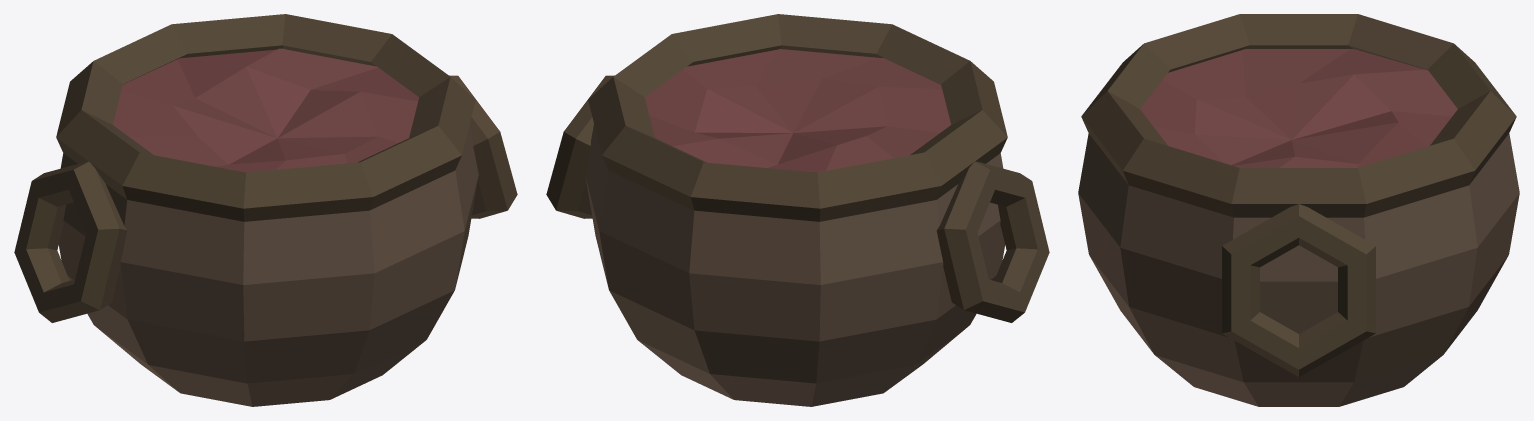
The model's file is Cauldron_2_Brown.fbx.
The picture shows the model from 3 angles, left to right: view 1: azimuth 30°, elevation 25°; view 2: azimuth 150°, elevation 25°; view 3: azimuth 270°, elevation 25°; orthographic projection.
Visible parts, largest first — view 1: Cauldron_2_Brown_Part_1, Cauldron_2_Brown_Part_2, Cauldron_2_Brown_Part_3; view 2: Cauldron_2_Brown_Part_1, Cauldron_2_Brown_Part_2, Cauldron_2_Brown_Part_3; view 3: Cauldron_2_Brown_Part_1, Cauldron_2_Brown_Part_2, Cauldron_2_Brown_Part_3.
Part boxes in pixels (x1=…): Cauldron_2_Brown_Part_1: x1=58, y1=124, x2=478, y2=406; Cauldron_2_Brown_Part_2: x1=14, y1=14, x2=517, y2=322; Cauldron_2_Brown_Part_3: x1=113, y1=48, x2=418, y2=172; Cauldron_2_Brown_Part_1: x1=585, y1=124, x2=1005, y2=406; Cauldron_2_Brown_Part_2: x1=546, y1=14, x2=1049, y2=322; Cauldron_2_Brown_Part_3: x1=645, y1=49, x2=950, y2=172; Cauldron_2_Brown_Part_1: x1=1078, y1=133, x2=1519, y2=406; Cauldron_2_Brown_Part_2: x1=1081, y1=14, x2=1516, y2=376; Cauldron_2_Brown_Part_3: x1=1140, y1=49, x2=1457, y2=167.
Bounding box in the file's own units: 241 × 132 × 200.
